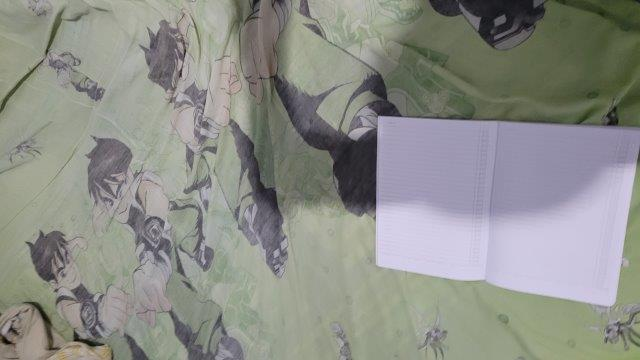kertas: (374, 115, 640, 305)
